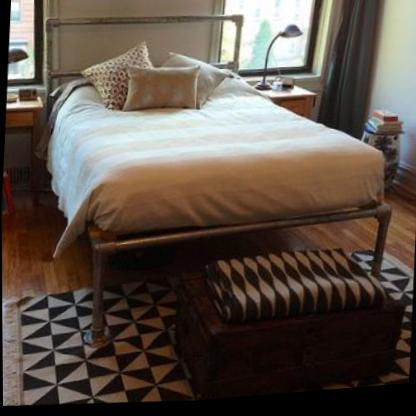Bed: (27, 0, 404, 366)
